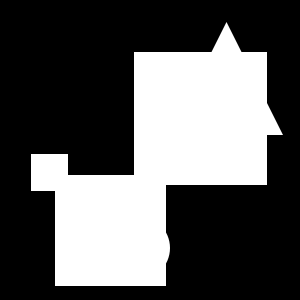circle: (134, 52, 267, 185), (55, 175, 166, 286), (31, 154, 68, 191)
rectangle: (106, 216, 170, 280)
triangle: (170, 22, 283, 135)
